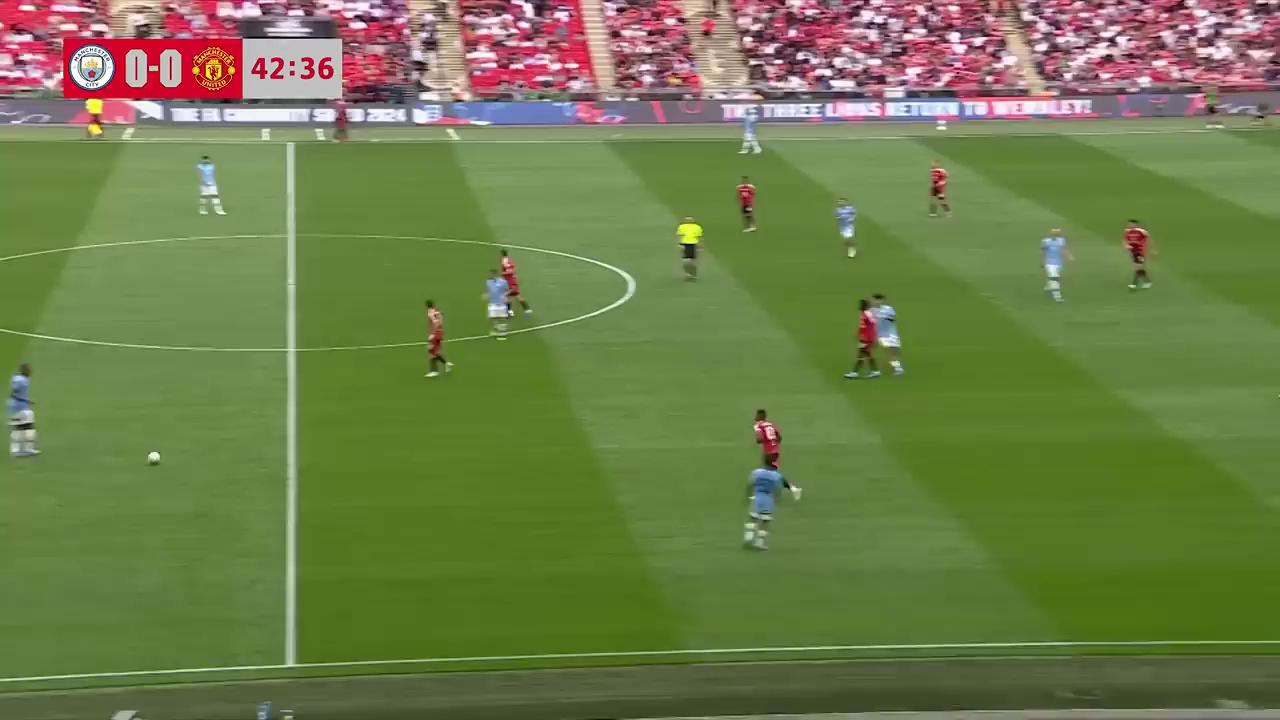ball: (146, 448, 161, 465)
player: (741, 458, 795, 550), (751, 408, 801, 498), (5, 361, 40, 457), (865, 294, 905, 377), (843, 299, 883, 380), (1040, 227, 1074, 303), (1122, 218, 1154, 289), (424, 300, 453, 378), (497, 251, 532, 313), (481, 270, 511, 337), (195, 154, 226, 216), (927, 160, 952, 218), (834, 198, 857, 257), (736, 176, 756, 232), (740, 112, 761, 154)
referee: (676, 215, 702, 282), (85, 94, 105, 139)
